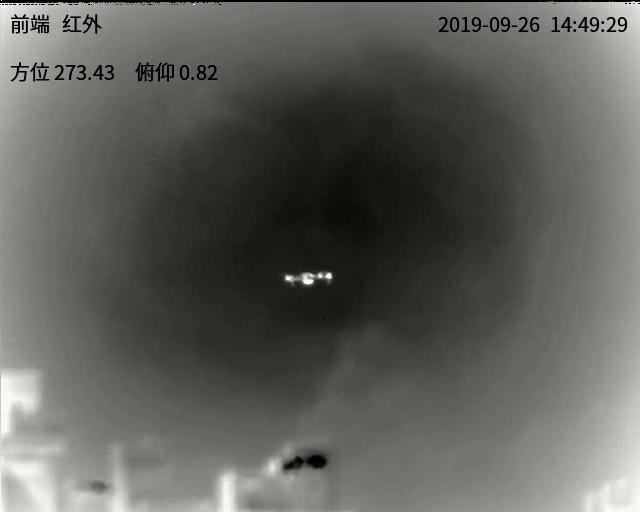DRONE: (283, 269, 334, 287)
